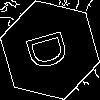D: (25, 25, 79, 73)
